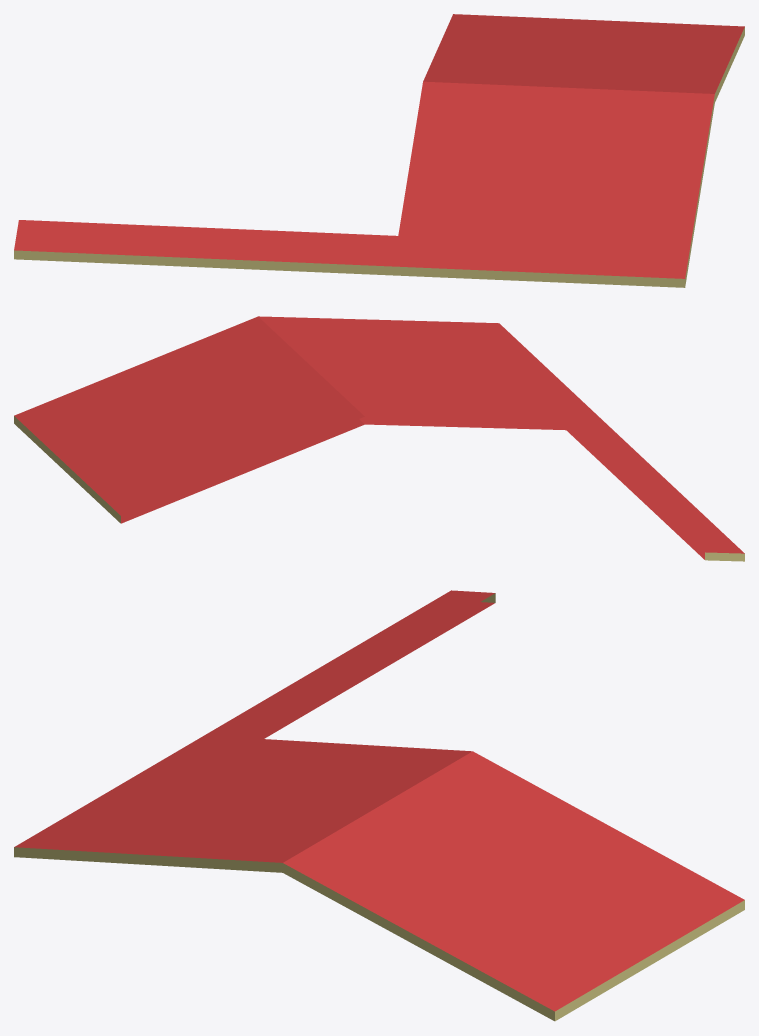
3 renders of one model, top to bottom at view 1: azimuth 30°, elevation 25°; view 2: azimuth 150°, elevation 25°; view 3: azimuth 270°, elevation 25°, orthographic. The views are drawn at different scales.
Bounding box in the file's own units: 9.09 × 6.67 × 0.764.
